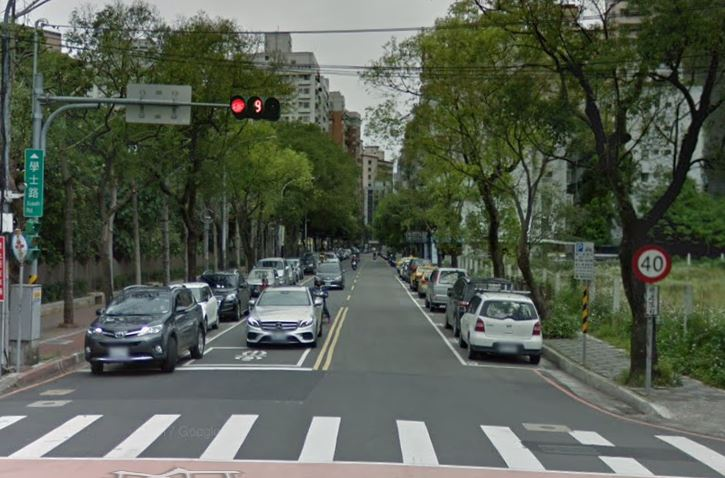Speed_limit_40km: (629, 244, 673, 284)
Traffic_light_red: (228, 95, 282, 120)
car: (242, 285, 325, 348)
